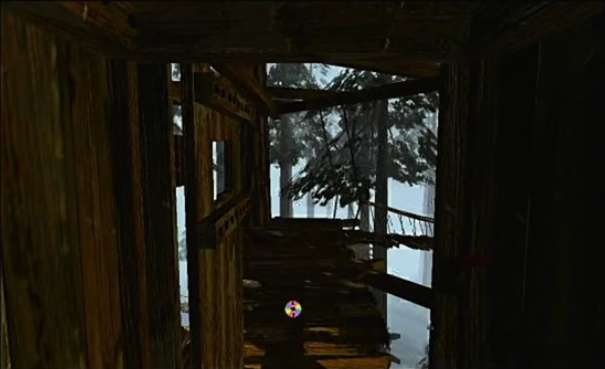Waiting: (281, 297, 304, 319)
